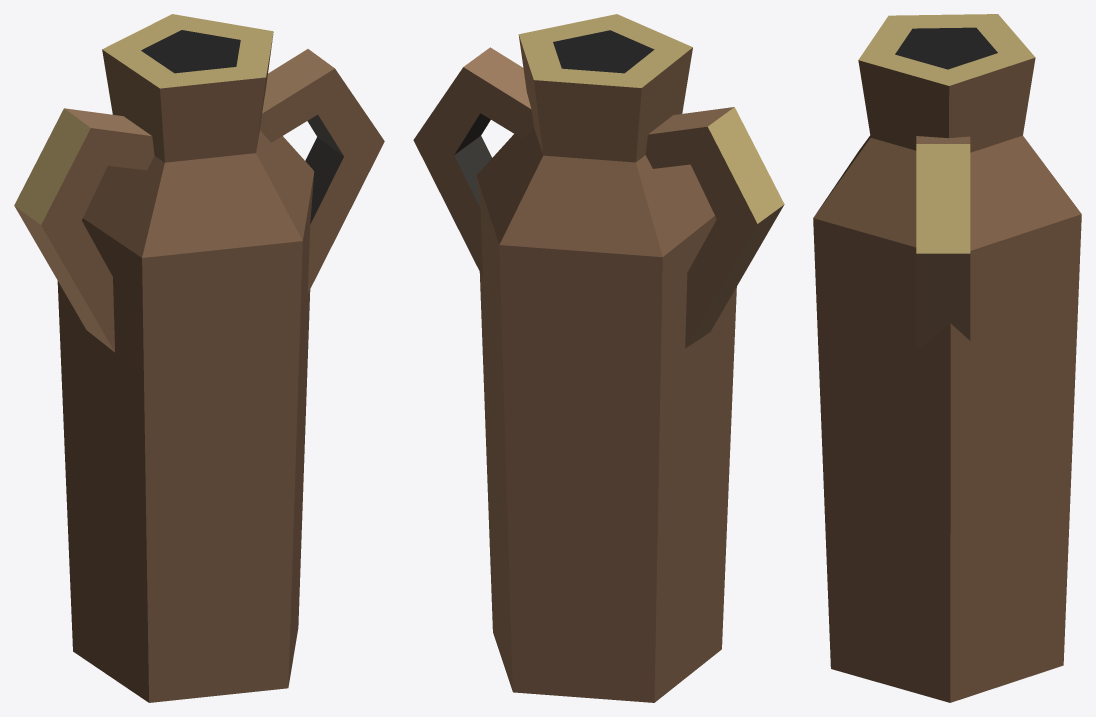
File: TB_D_Prop_Jar_I.FBX
The picture shows the model from 3 angles, left to right: view 1: azimuth 30°, elevation 25°; view 2: azimuth 150°, elevation 25°; view 3: azimuth 270°, elevation 25°; orthographic projection.
Visible parts, largest first — view 1: TB_D_Prop_Jar_I; view 2: TB_D_Prop_Jar_I; view 3: TB_D_Prop_Jar_I.
Part boxes in pixels (x1=…): TB_D_Prop_Jar_I: x1=14, y1=14, x2=384, y2=702; TB_D_Prop_Jar_I: x1=413, y1=14, x2=784, y2=702; TB_D_Prop_Jar_I: x1=813, y1=14, x2=1081, y2=702.
Size of the model in its own units: 0.712 by 1.19 by 0.4807.
